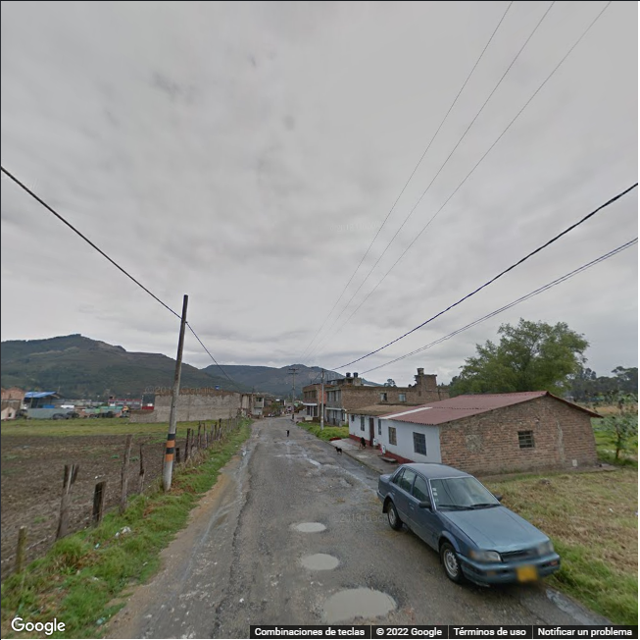D40: (319, 581, 396, 631), (299, 541, 346, 580), (290, 515, 332, 534)
